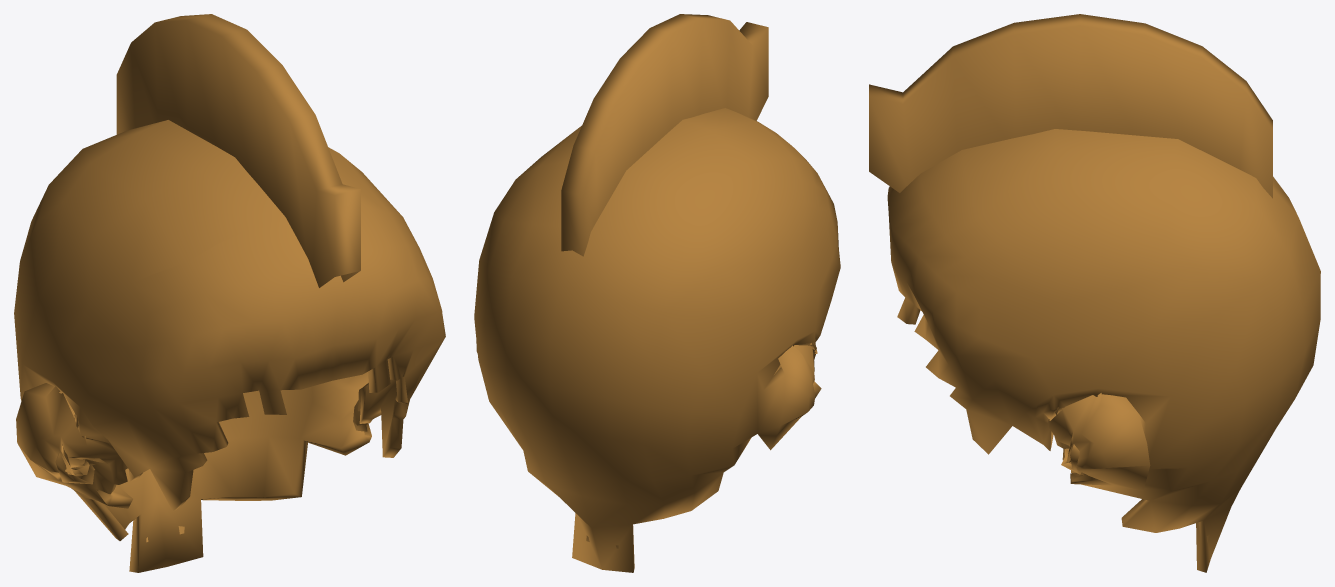
Rendered from legion_helm.glb.
The picture shows the model from 3 angles, left to right: view 1: azimuth 30°, elevation 25°; view 2: azimuth 150°, elevation 25°; view 3: azimuth 270°, elevation 25°; orthographic projection. The views are drawn at different scales.
Visible parts, largest first — view 1: legion_helm; view 2: legion_helm; view 3: legion_helm.
Boxes of the visible parts, box(x1,y1,x2,y2) form: legion_helm: box(14, 14, 445, 572); legion_helm: box(474, 14, 840, 572); legion_helm: box(869, 14, 1320, 572).
Size of the model in its own units: 0.2315 by 0.3417 by 0.2593.
